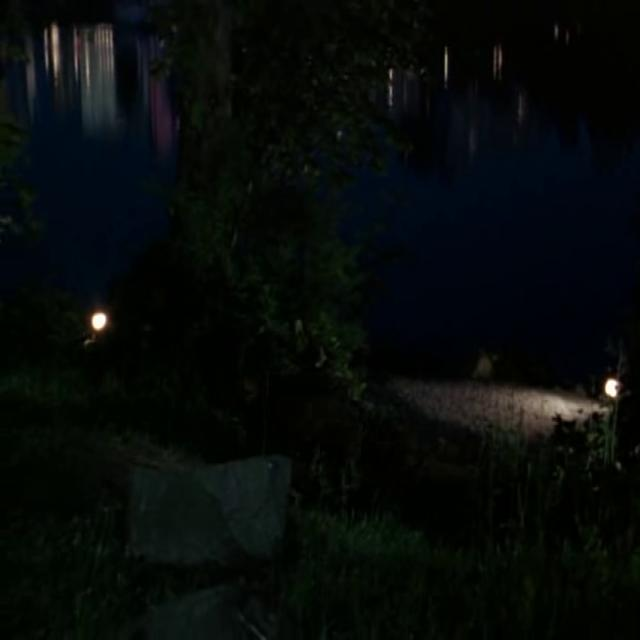dog: (463, 326, 505, 418)
